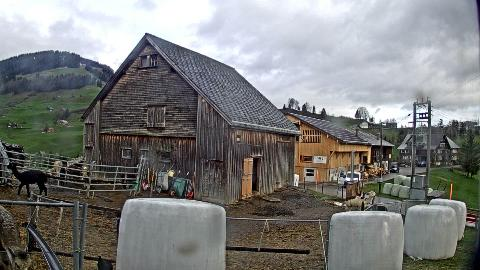car: (338, 170, 362, 188), (388, 164, 400, 174), (417, 160, 427, 168)
sheep: (6, 161, 48, 197), (0, 204, 19, 270), (344, 190, 376, 220), (80, 164, 92, 192), (67, 164, 81, 184), (52, 159, 64, 182)
